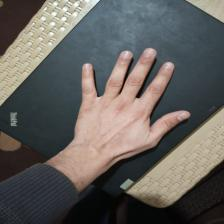five: (77, 46, 192, 156)
